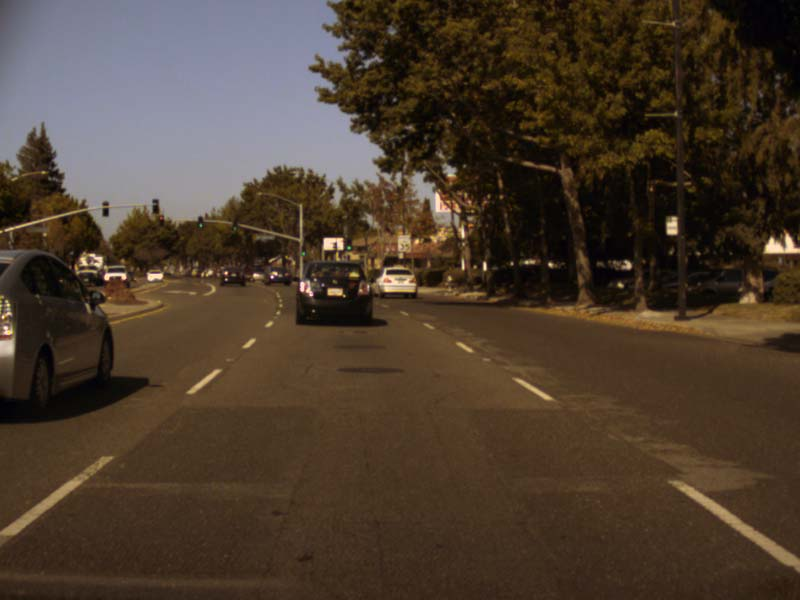Green: (197, 216, 203, 228), (345, 237, 351, 249), (232, 220, 237, 231), (301, 245, 306, 256)
Red: (156, 215, 164, 226)
